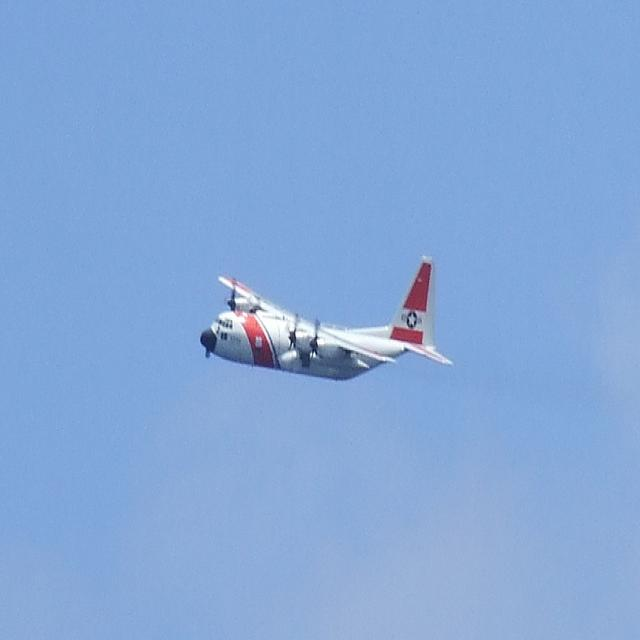airplane: (198, 254, 455, 384)
